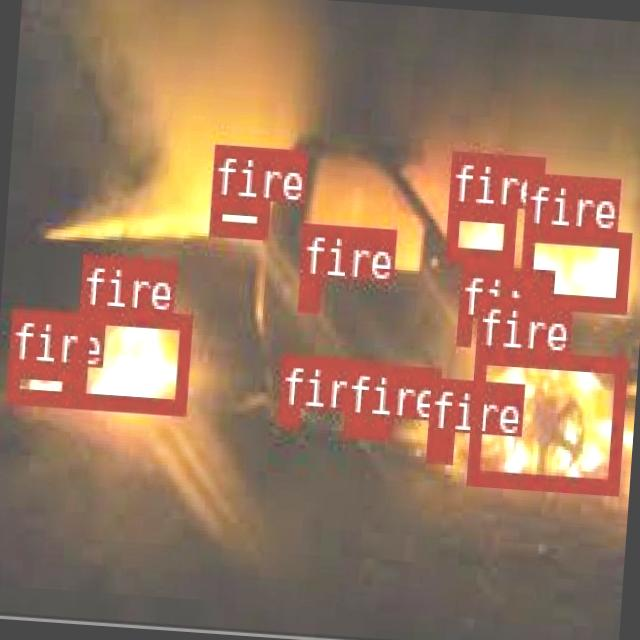fire: (464, 347, 626, 493), (72, 306, 190, 413), (518, 224, 630, 310), (442, 202, 514, 262), (5, 358, 72, 402), (208, 194, 266, 236), (341, 412, 389, 436), (425, 426, 452, 461), (295, 276, 319, 306), (454, 316, 470, 342), (275, 404, 296, 422)
